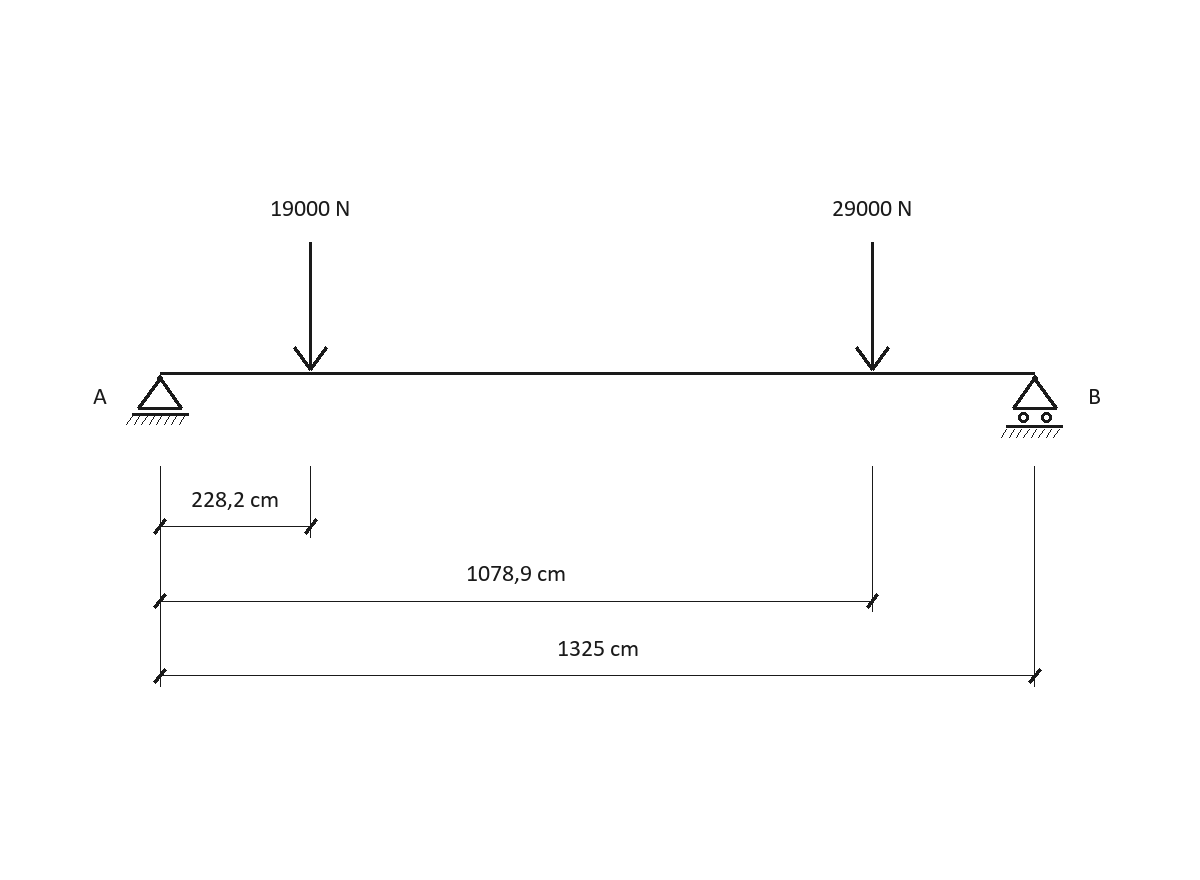pin_support: (126, 375, 189, 425)
point_load: (293, 242, 328, 371), (855, 242, 890, 371)
roller_support: (1001, 375, 1063, 438)
